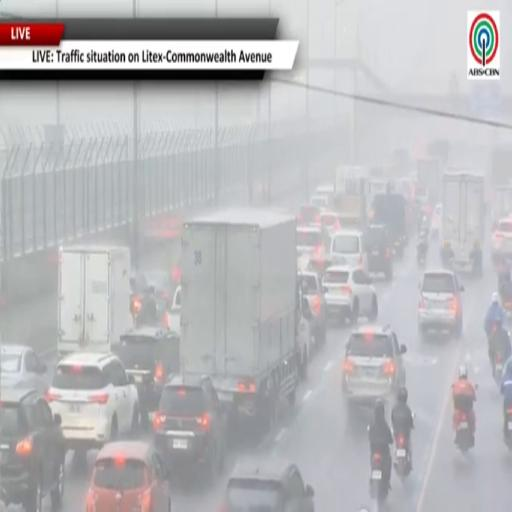car: (47, 352, 139, 457), (0, 389, 65, 511), (153, 375, 227, 476), (114, 327, 179, 424), (86, 441, 171, 511), (342, 326, 406, 404), (221, 460, 314, 511), (322, 266, 378, 324), (418, 269, 464, 337), (131, 271, 175, 325), (0, 344, 49, 392), (372, 194, 409, 257), (299, 271, 326, 345), (329, 230, 368, 271), (364, 224, 392, 280), (296, 227, 327, 269), (144, 271, 175, 312), (492, 217, 511, 266), (306, 255, 334, 281), (166, 285, 181, 332), (297, 205, 321, 226), (321, 212, 342, 235), (431, 204, 442, 237), (310, 196, 330, 211), (315, 184, 335, 198)
motorcycle: (454, 395, 474, 453), (369, 452, 389, 502), (456, 411, 474, 453), (394, 432, 410, 477), (493, 351, 503, 386), (504, 408, 511, 451), (417, 243, 428, 266)
truck: (180, 208, 302, 427), (57, 246, 133, 357), (441, 168, 485, 275), (333, 166, 368, 227), (415, 157, 442, 212), (491, 184, 511, 228), (491, 146, 511, 186)
